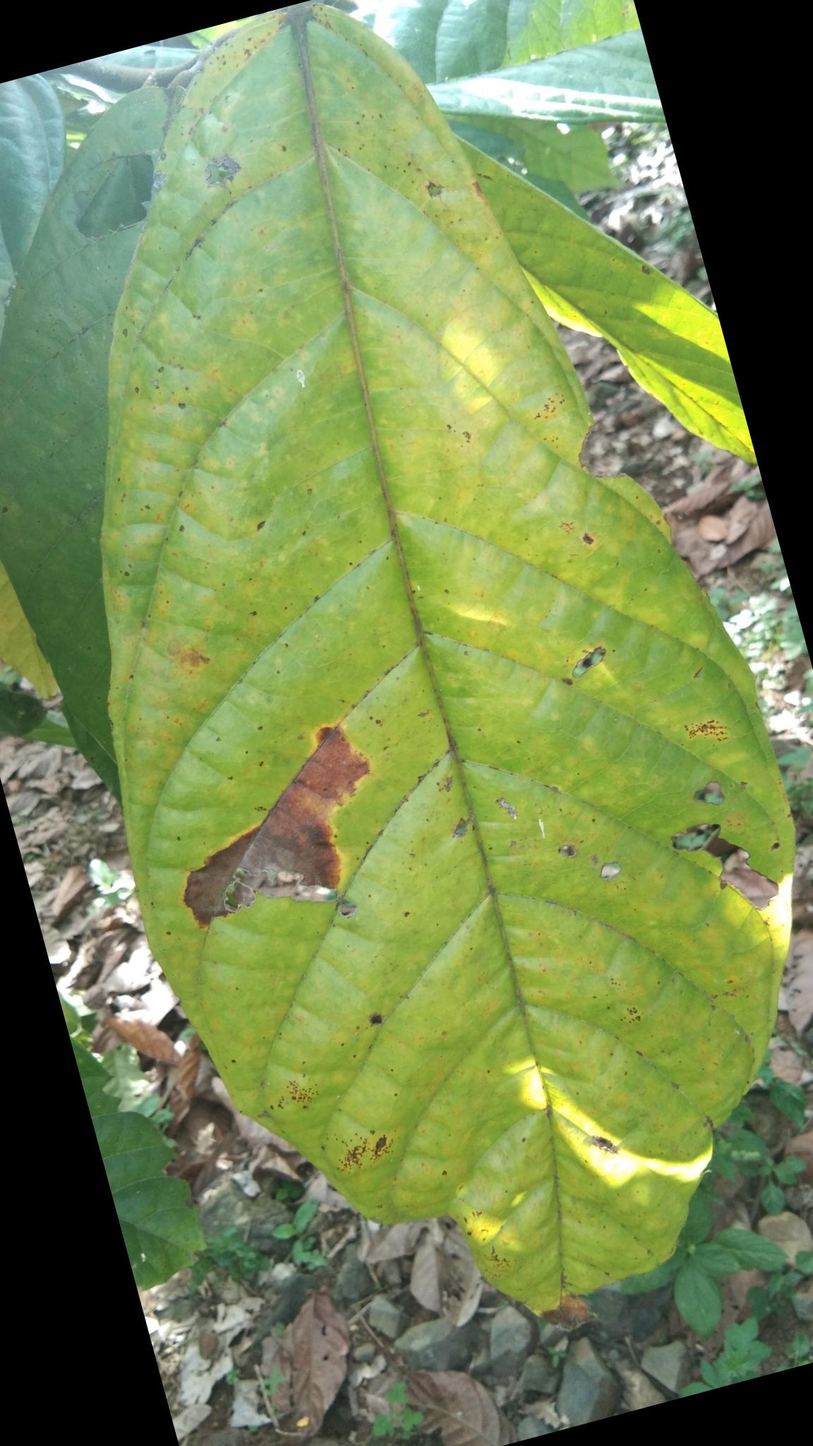Fosforo: (102, 6, 781, 1320)
